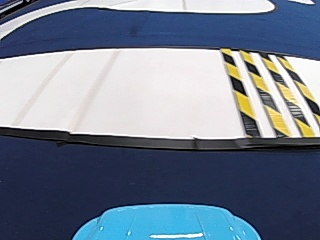bump: (220, 56, 308, 130)
